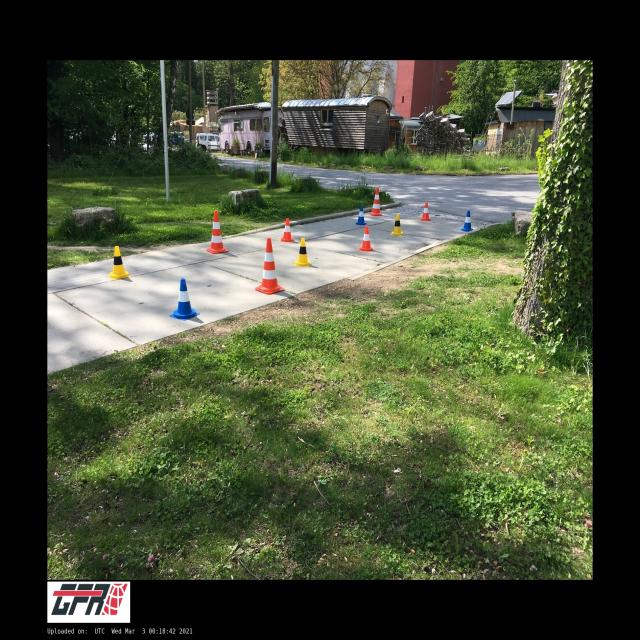blue_cone: (168, 279, 200, 320), (461, 211, 473, 231), (355, 205, 366, 225)
large_orange_cone: (254, 238, 284, 294), (206, 211, 228, 253), (370, 187, 382, 216)
orange_cone: (358, 226, 374, 252), (280, 218, 294, 242), (419, 202, 432, 221)
yellow_cone: (107, 246, 131, 278), (294, 238, 311, 266), (391, 214, 404, 236)
